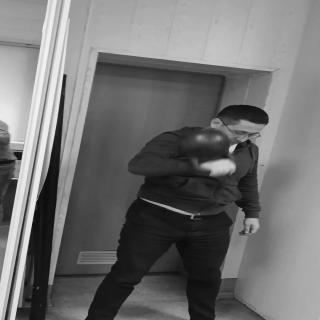girya: (177, 130, 236, 173)
